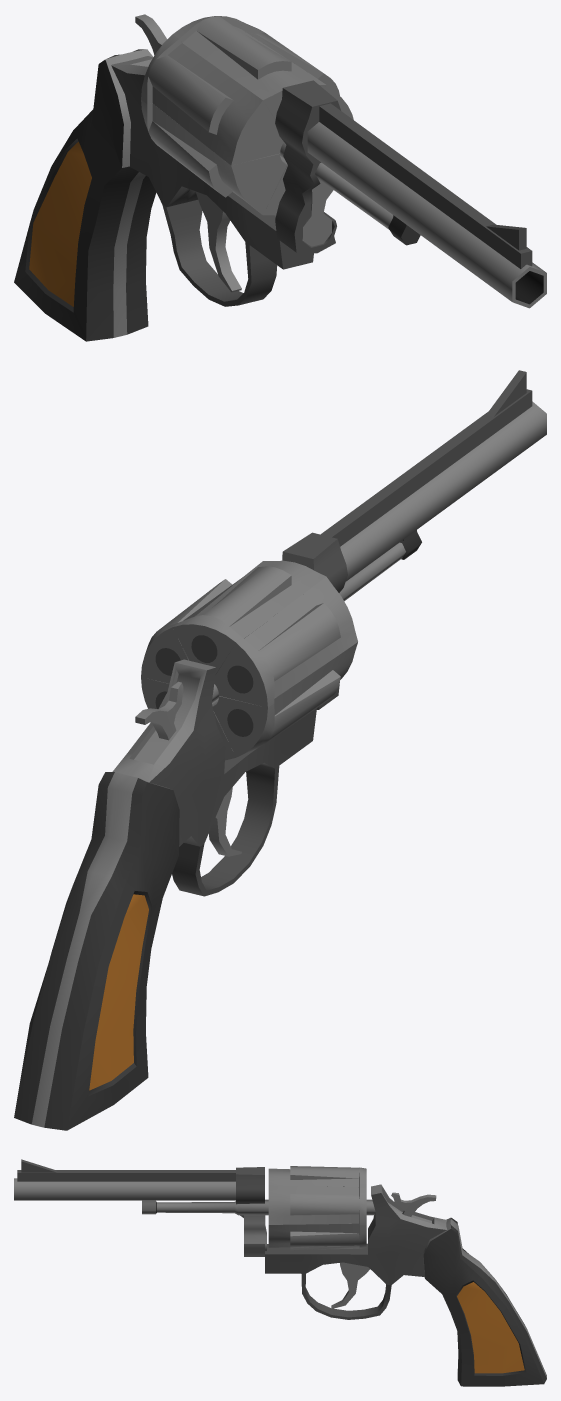
File: revolver.fbx
3 renders of one model, top to bottom at view 1: azimuth 30°, elevation 25°; view 2: azimuth 150°, elevation 25°; view 3: azimuth 270°, elevation 25°, orthographic. The views are drawn at different scales.
Parts seen in each view (by area): view 1: Circle.002; view 2: Circle.002; view 3: Circle.002.
Boxes of the visible parts, x1,y1,x2,y2 form: Circle.002: [14, 14, 546, 341]; Circle.002: [14, 370, 546, 1130]; Circle.002: [14, 1159, 546, 1386].
Size of the model in its own units: 19.34 by 56.23 by 125.
Materials: 1 (1 with a texture image).
